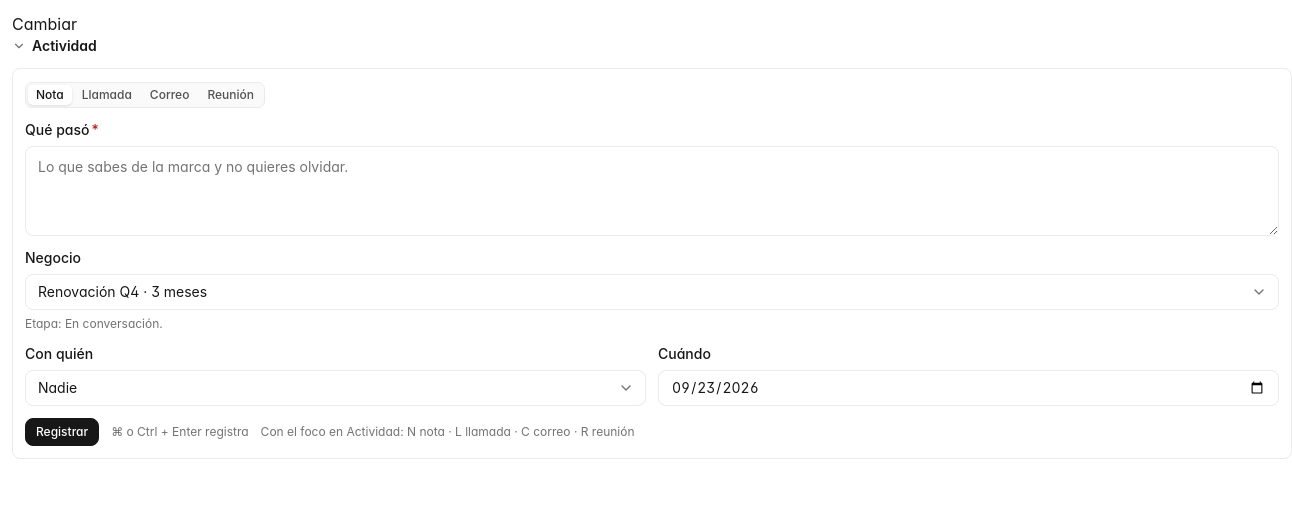
Test: RegistroRapido › sin acción pendiente no pregunta nada
Click the button "Registrar". click: [62, 432]
box: 25,418 -> 99,446
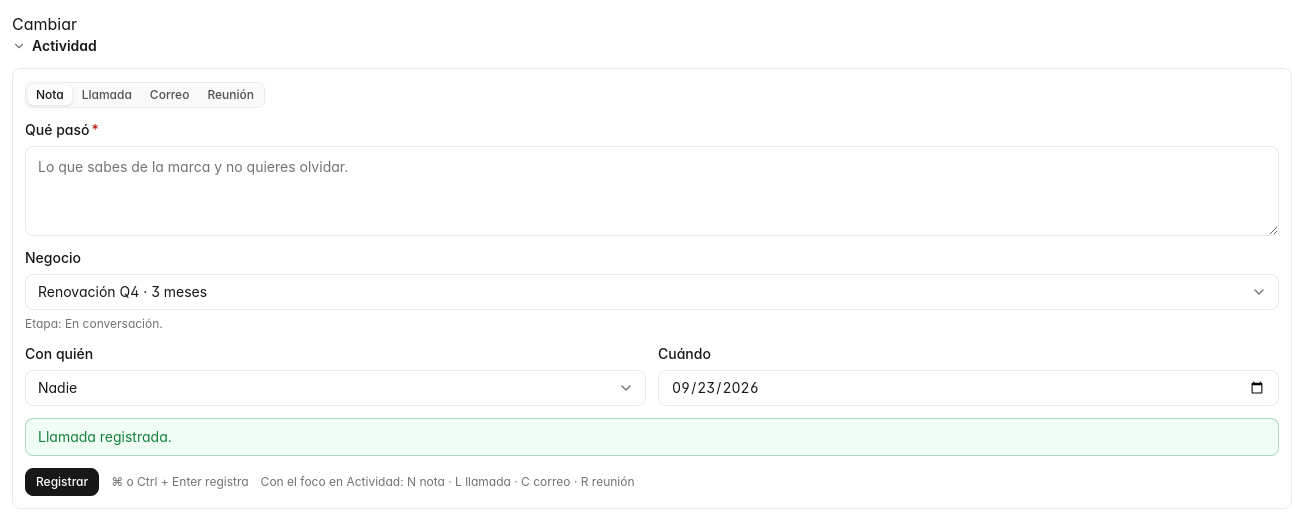
Expected: the message reads "Llamada registrada.", 38,428 -> 172,445
